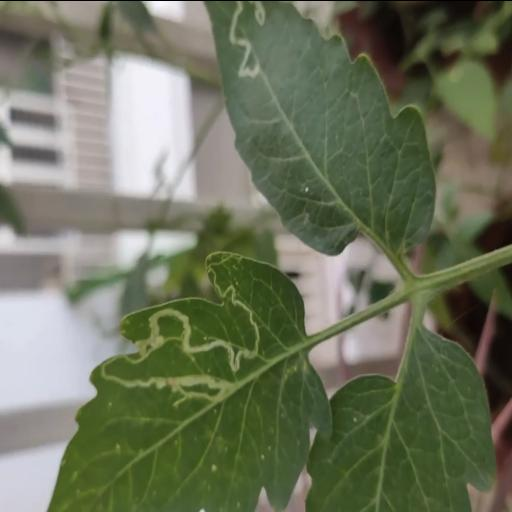disease_tomato: (44, 246, 328, 512), (198, 0, 436, 253)
